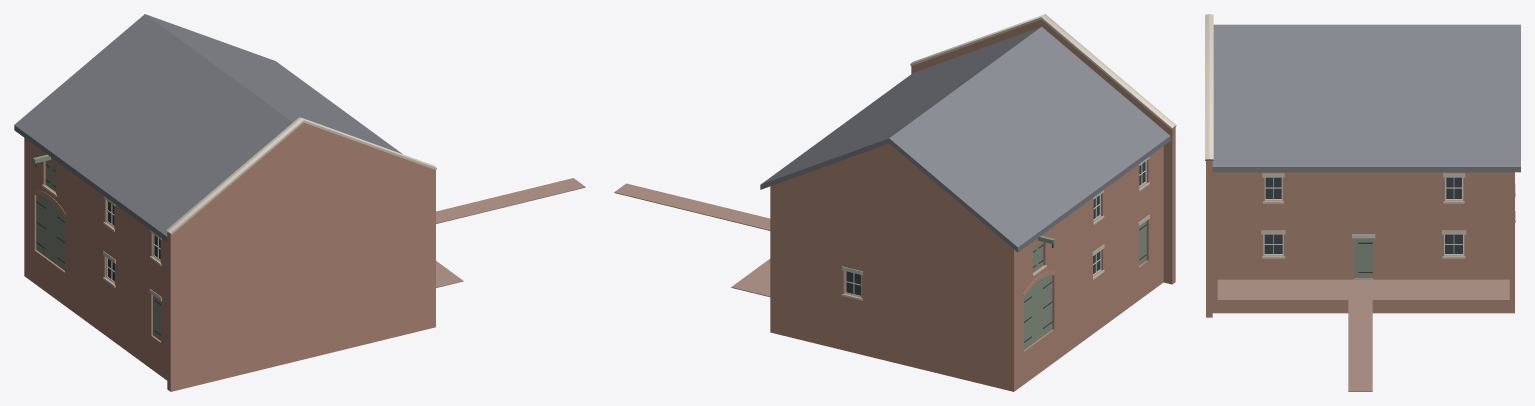
The model's file is goodman_house_1612_prairie_coach_house__as_standing_1904.glb.
3 views of the same model, side by side, from view 1: azimuth 30°, elevation 25°; view 2: azimuth 150°, elevation 25°; view 3: azimuth 270°, elevation 25° (orthographic).
Visible parts, largest first — view 1: goodman_house_1612_prairie_coach_house__as_standing_1904; view 2: goodman_house_1612_prairie_coach_house__as_standing_1904; view 3: goodman_house_1612_prairie_coach_house__as_standing_1904.
Boxes of the visible parts, left/top/right/bottom form: goodman_house_1612_prairie_coach_house__as_standing_1904: left=14, top=14, right=585, bottom=391; goodman_house_1612_prairie_coach_house__as_standing_1904: left=614, top=14, right=1176, bottom=391; goodman_house_1612_prairie_coach_house__as_standing_1904: left=1205, top=14, right=1520, bottom=391.
Size of the model in its own units: 27.96 by 13.02 by 15.58.
